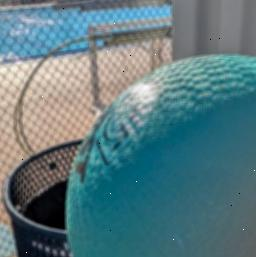algae: (64, 55, 256, 257)
